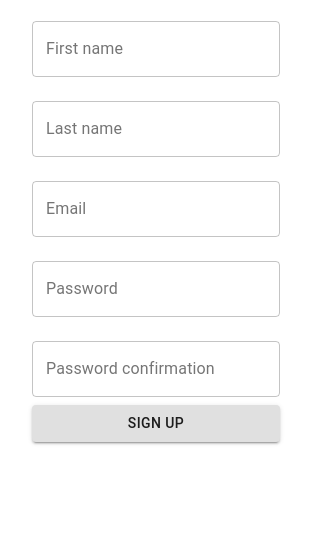
Test: SignUpPage › with invalid data › does not submit form if password is to short
In the password field with test id "password": (156,289) [32,261,280,317], type "456"
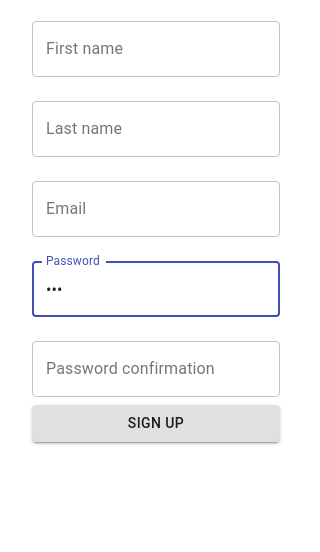
Click the button with test id "signup-button": (156,423) [32,405,280,442]
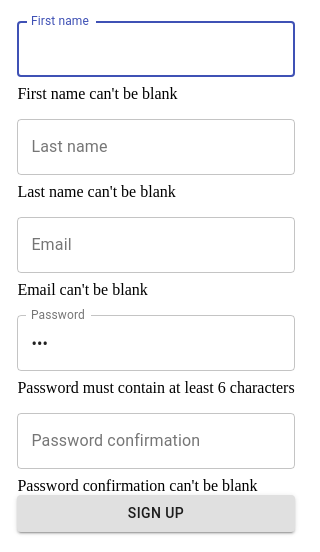
Expected: the text "Password must contain at least 6 characters" is shown, [17,379,295,397]
